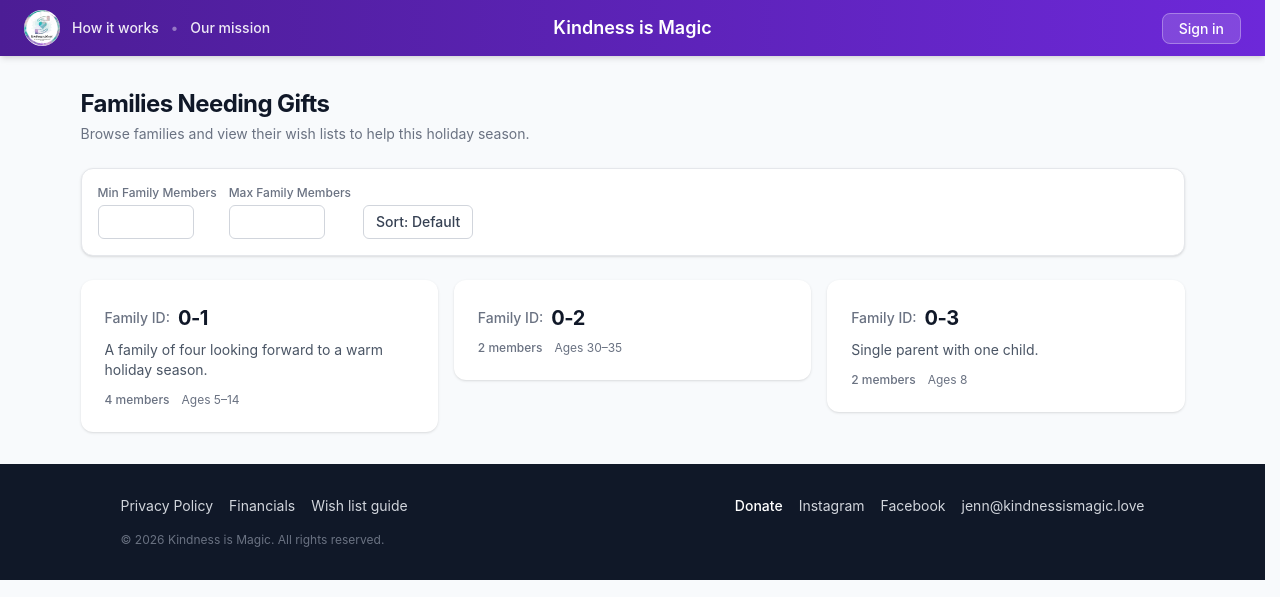
PublicFamilies › clicking sort button cycles sort options
Click to cycle to first sort option
Step 1. Click the button "Sort: Default" → (418, 222), box [363,205,473,239]
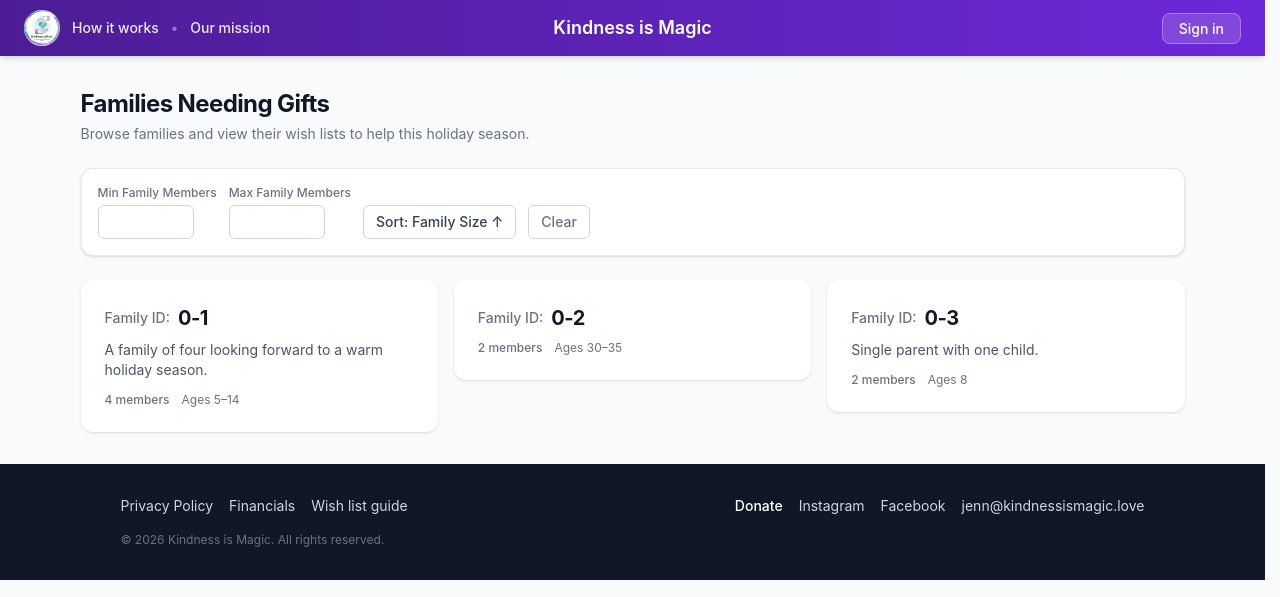
Check: the button "Sort: Family Size ↑" is shown, box [363,205,516,239]
